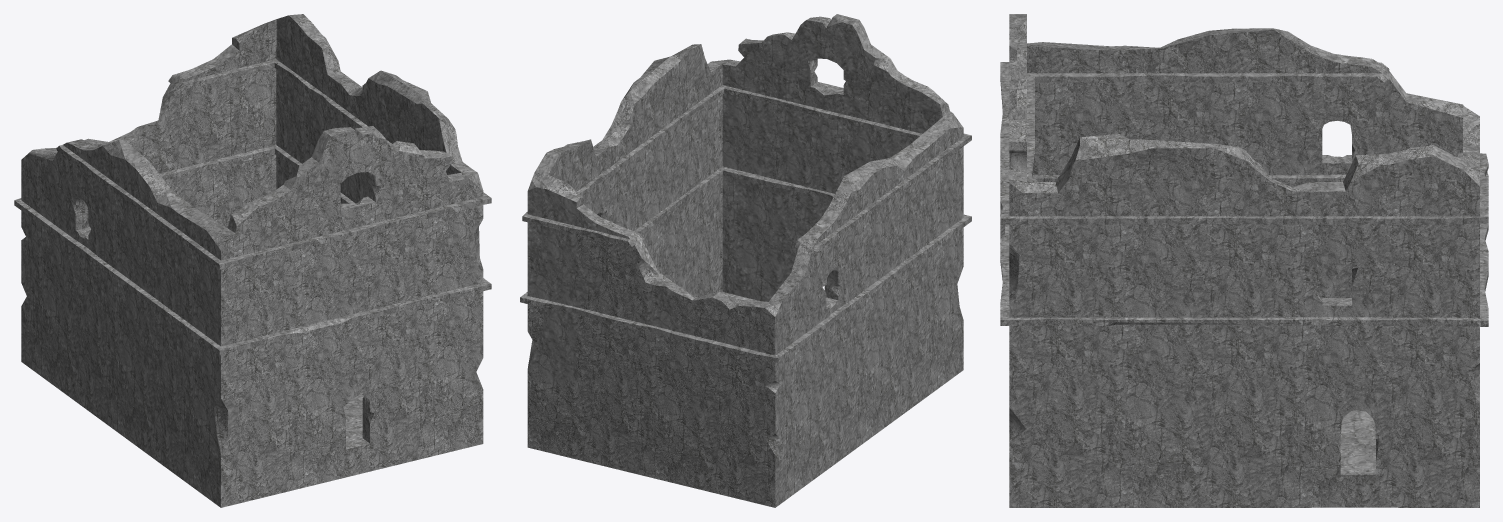
File: materials_3_building_12.fbx
The picture shows the model from 3 angles, left to right: view 1: azimuth 30°, elevation 25°; view 2: azimuth 150°, elevation 25°; view 3: azimuth 270°, elevation 25°; orthographic projection. The views are drawn at different scales.
Visible parts, largest first — view 1: materials_3_building_12; view 2: materials_3_building_12; view 3: materials_3_building_12.
Boxes of the visible parts, x1=… form: materials_3_building_12: x1=14, y1=14, x2=491, y2=507; materials_3_building_12: x1=520, y1=14, x2=971, y2=507; materials_3_building_12: x1=1000, y1=14, x2=1488, y2=507.
Size of the model in its own units: 1183 by 1432 by 1557.
